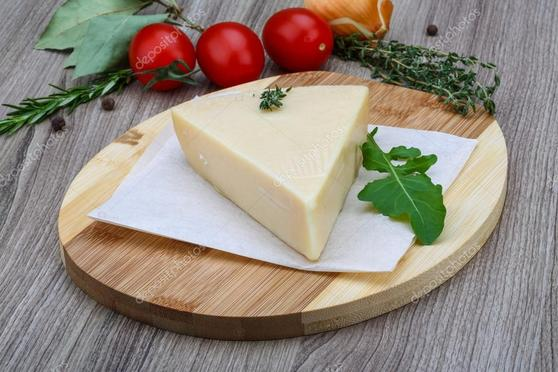cheese: (174, 85, 372, 261)
